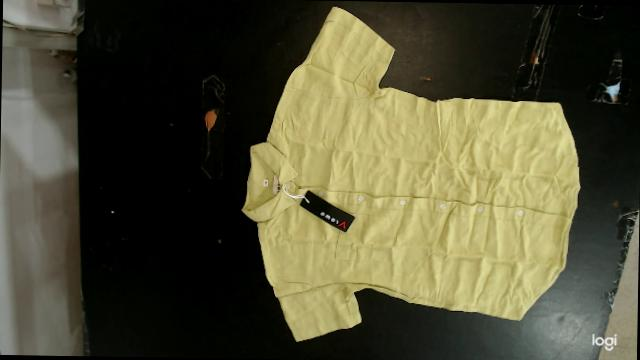new-garment: (242, 7, 580, 340)
